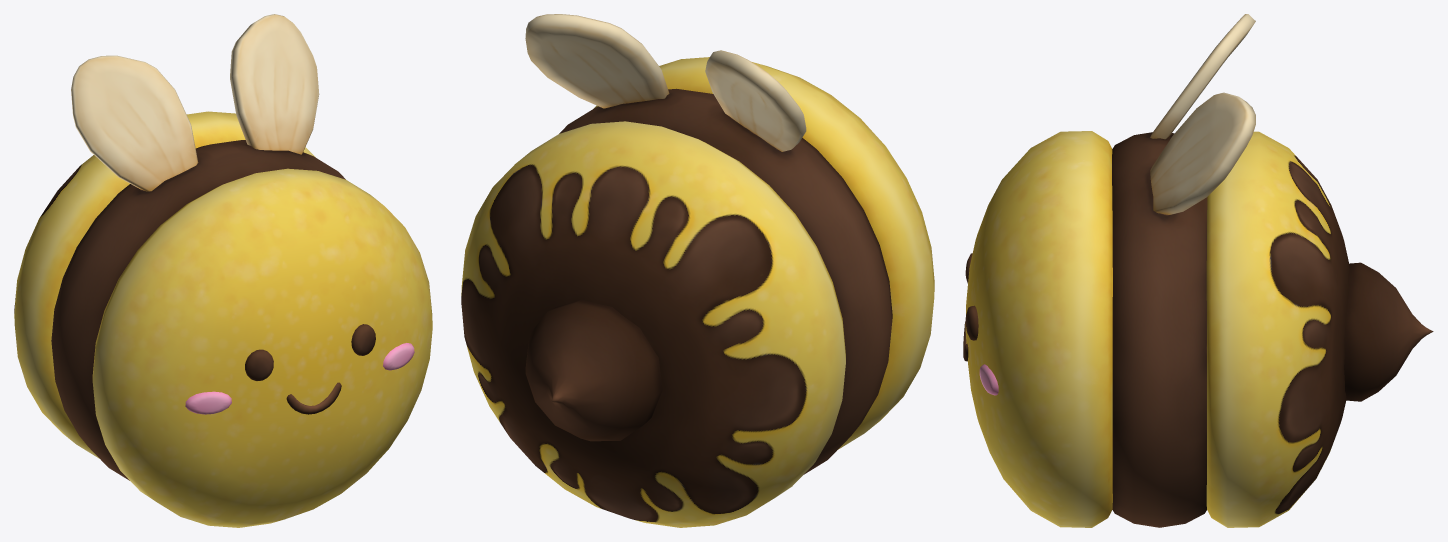
Rendered from BiscuitBee.fbx.
3 views of the same model, side by side, from view 1: azimuth 30°, elevation 25°; view 2: azimuth 150°, elevation 25°; view 3: azimuth 270°, elevation 25° (orthographic). The views are drawn at different scales.
Parts seen in each view (by area): view 1: BiscuitBee; view 2: BiscuitBee; view 3: BiscuitBee.
Part boxes in pixels (<box>): BiscuitBee: <box>14,14,432,527</box>; BiscuitBee: <box>461,14,934,527</box>; BiscuitBee: <box>963,14,1433,527</box>.
Size of the model in its own units: 0.2077 by 0.2586 by 0.2455.
